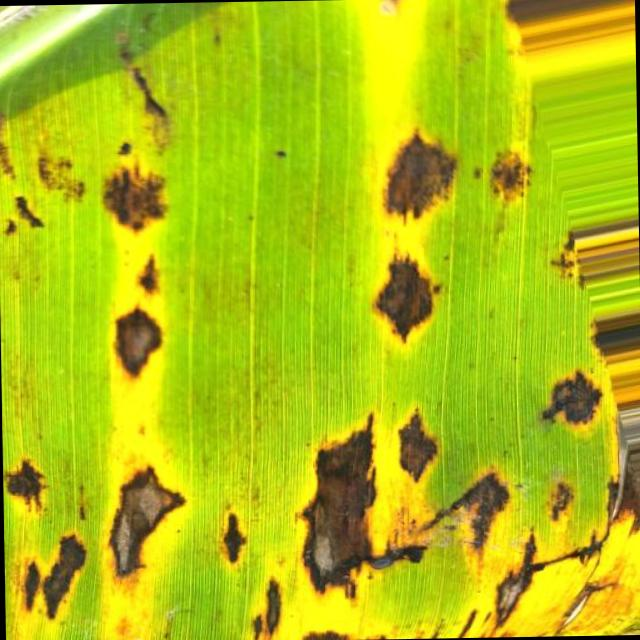Banana_Yellow_Sigatoka: (264, 381, 629, 640), (20, 171, 214, 640), (365, 108, 584, 342)
